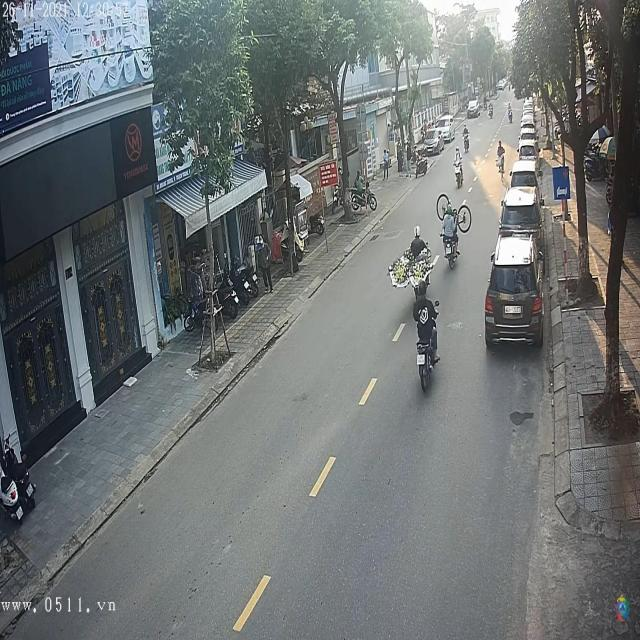car: (486, 230, 544, 349), (499, 189, 543, 237), (507, 160, 538, 197), (518, 123, 536, 142), (518, 144, 535, 162), (469, 99, 481, 118)
motorcycle: (414, 322, 441, 392), (454, 159, 464, 188)
